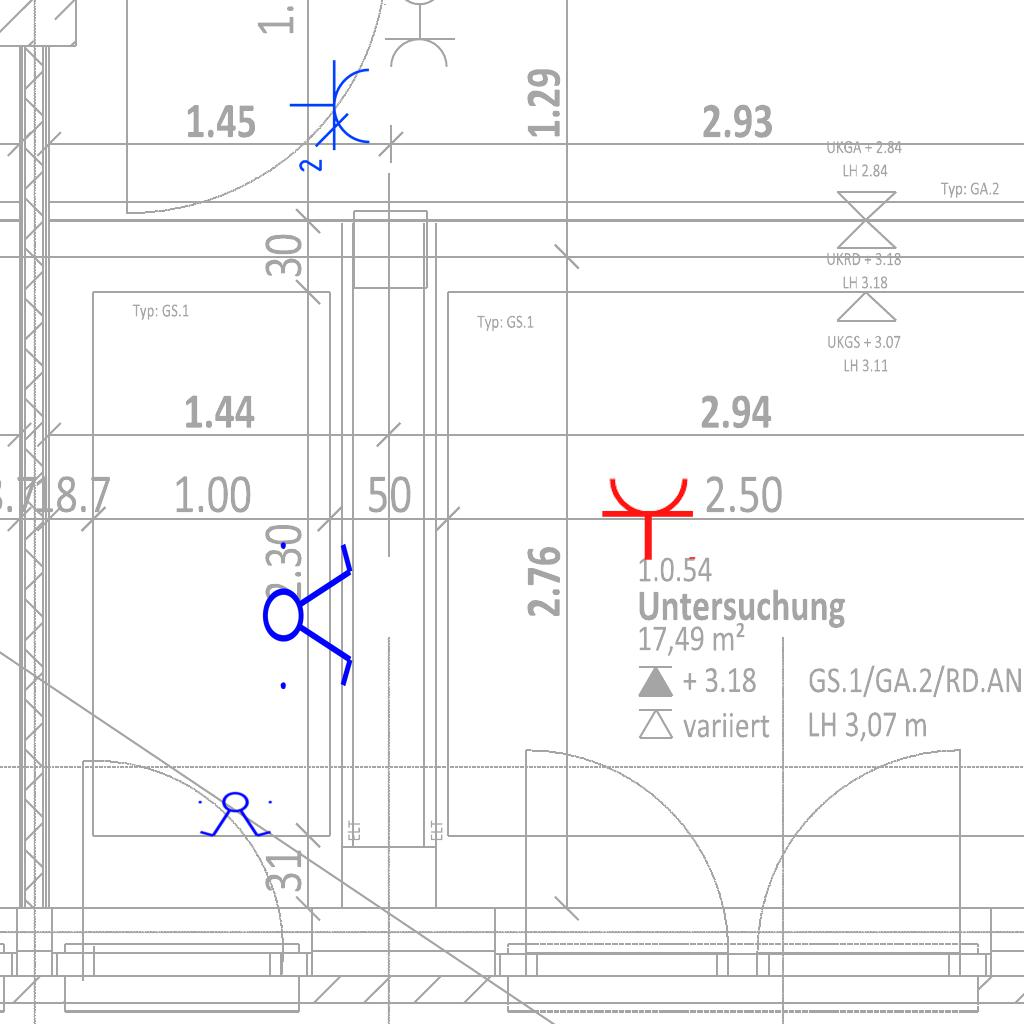Schukosteckdose_einfach: (600, 475, 700, 562)
Schukosteckdose_mehrfach: (288, 58, 376, 179)
Serienschalter: (261, 530, 357, 698), (194, 791, 278, 839)
